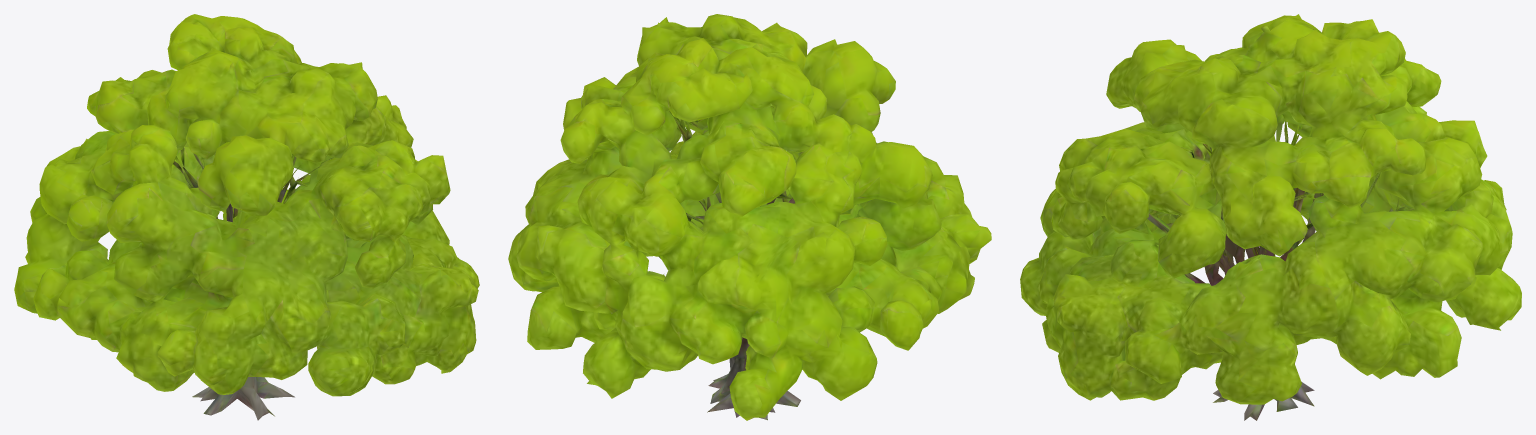
File: prop-oak-tree.glb
The picture shows the model from 3 angles, left to right: view 1: azimuth 30°, elevation 25°; view 2: azimuth 150°, elevation 25°; view 3: azimuth 270°, elevation 25°; orthographic projection. The views are drawn at different scales.
Size of the model in its own units: 1.76 by 1.58 by 1.9.
1 material, 1 textured.
